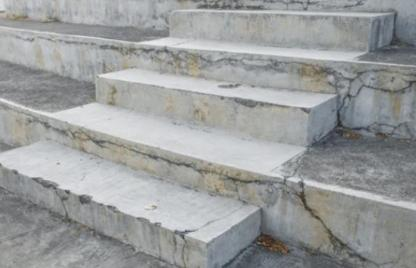stair: (51, 4, 337, 256)
